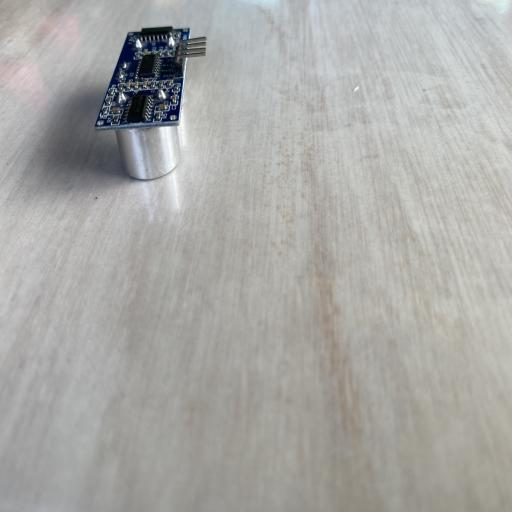Ultrasonic Sensor: (93, 25, 208, 181)
